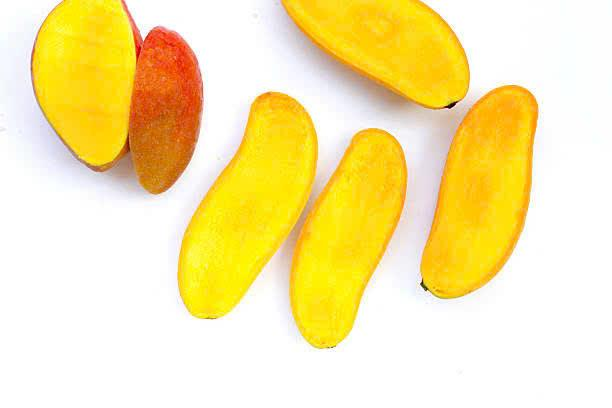mango: (185, 94, 316, 328), (422, 80, 538, 303), (292, 130, 407, 350), (279, 1, 478, 106), (26, 1, 139, 168), (137, 24, 205, 202)
